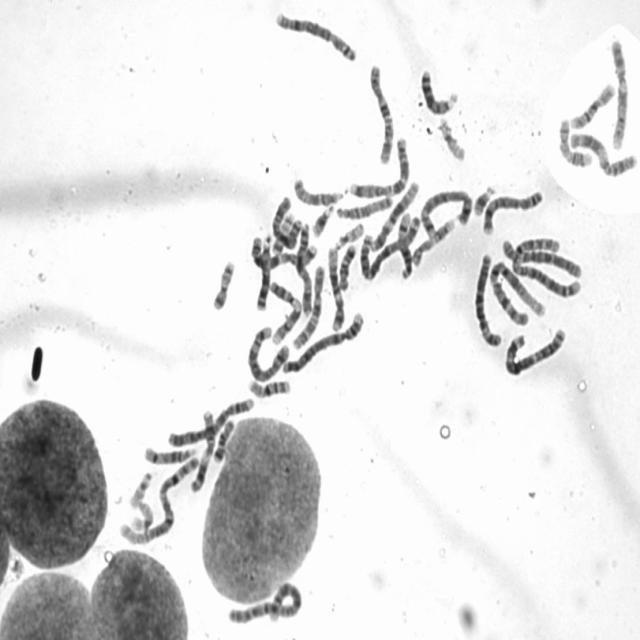A1: (116, 445, 200, 547), (487, 255, 548, 324)
A2: (501, 232, 583, 292), (222, 576, 304, 627)
A3: (356, 208, 422, 282), (501, 321, 568, 378)
B4: (279, 305, 366, 376), (164, 391, 256, 448)
B5: (416, 184, 474, 239), (243, 319, 291, 383)
C10: (288, 258, 326, 351), (365, 58, 396, 165)
C11: (564, 125, 638, 178), (187, 404, 216, 493)
C12: (367, 174, 421, 253), (324, 240, 347, 332)
C6: (497, 232, 584, 280), (471, 249, 504, 349)
C7: (345, 130, 412, 199), (247, 232, 319, 271)
C8: (270, 5, 358, 63), (479, 184, 545, 237)
C9: (606, 32, 630, 152), (265, 274, 303, 348)
D13: (416, 62, 459, 116), (252, 231, 274, 311)
D14: (139, 439, 200, 465), (393, 207, 414, 280)
D15: (290, 170, 344, 208), (332, 189, 395, 221)
E16: (566, 76, 617, 130), (244, 372, 292, 398)
E17: (408, 212, 457, 267), (555, 112, 593, 169)
E18: (210, 414, 236, 463), (335, 238, 358, 290)
F19: (434, 111, 467, 163), (126, 493, 154, 535)
F20: (208, 254, 237, 311), (271, 211, 295, 260)
G21: (307, 198, 336, 238), (469, 178, 496, 218)
G22: (125, 466, 155, 508), (331, 216, 366, 250)
X: (292, 216, 315, 316), (268, 192, 299, 254)
